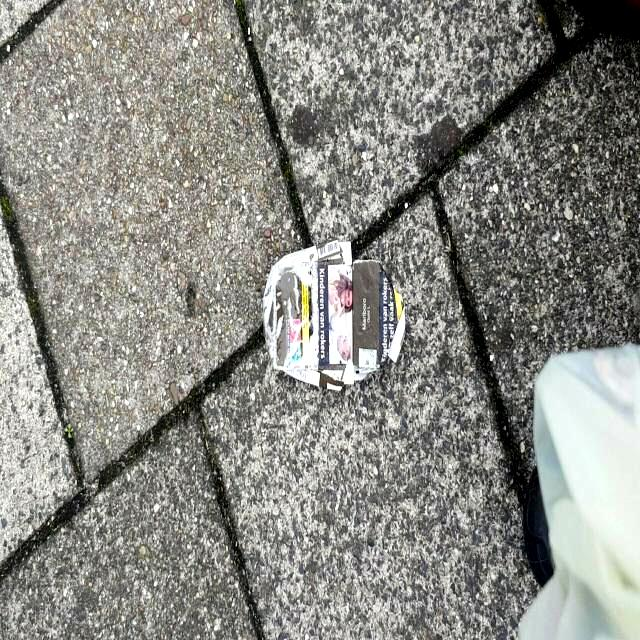Paper: (261, 238, 407, 394)
